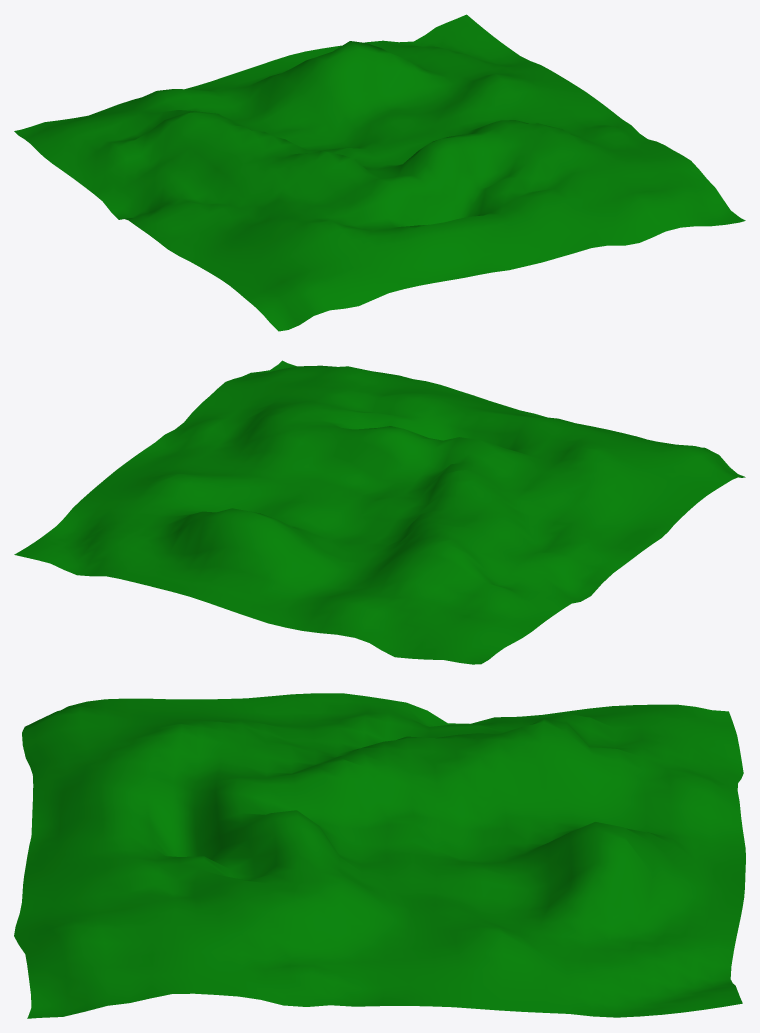
File: ground2.glb
The picture shows the model from 3 angles, top to bottom: view 1: azimuth 30°, elevation 25°; view 2: azimuth 150°, elevation 25°; view 3: azimuth 270°, elevation 25°; orthographic projection. The views are drawn at different scales.
Visible parts, largest first — view 1: Plane-col; view 2: Plane-col; view 3: Plane-col.
Part boxes in pixels (x1,y1,x2,y2): Plane-col: [14, 14, 745, 331]; Plane-col: [14, 360, 745, 664]; Plane-col: [14, 693, 745, 1018].
Bounding box in the file's own units: 9.79 × 1.14 × 9.84.
